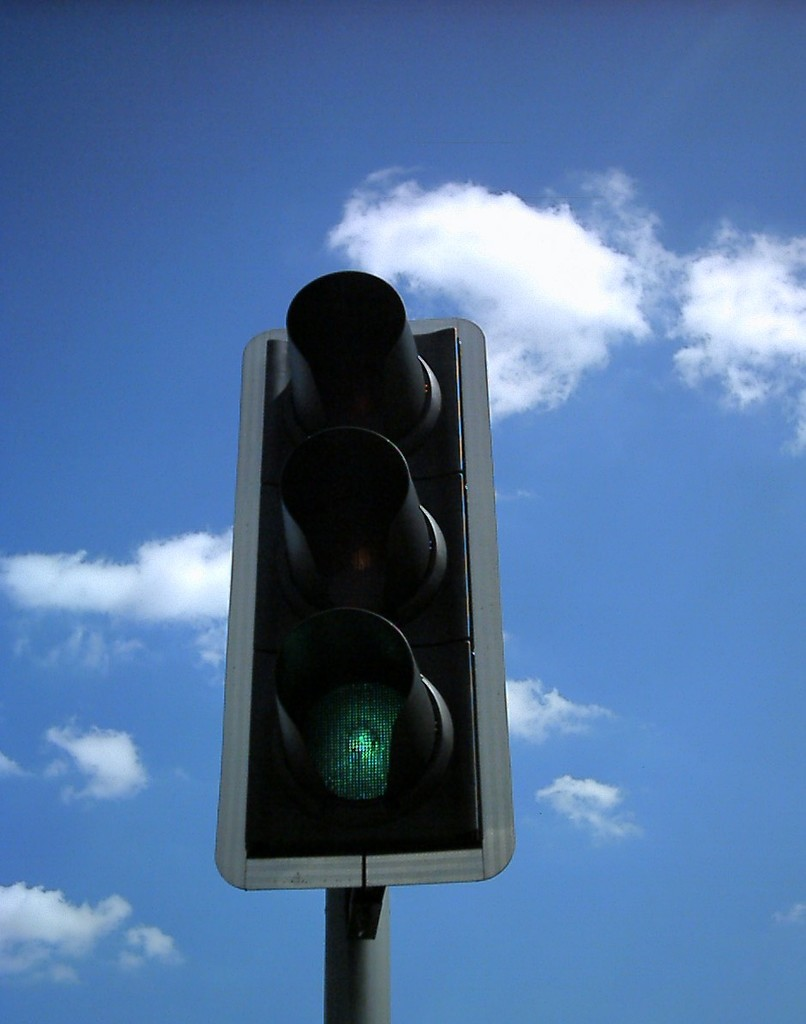green_light: (271, 655, 451, 807)
